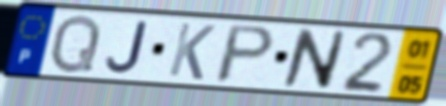2: (340, 30, 396, 96)
J: (103, 20, 150, 75)
K: (165, 20, 218, 83)
N: (279, 27, 349, 92)
P: (211, 23, 279, 85)
Q: (47, 12, 104, 76)
